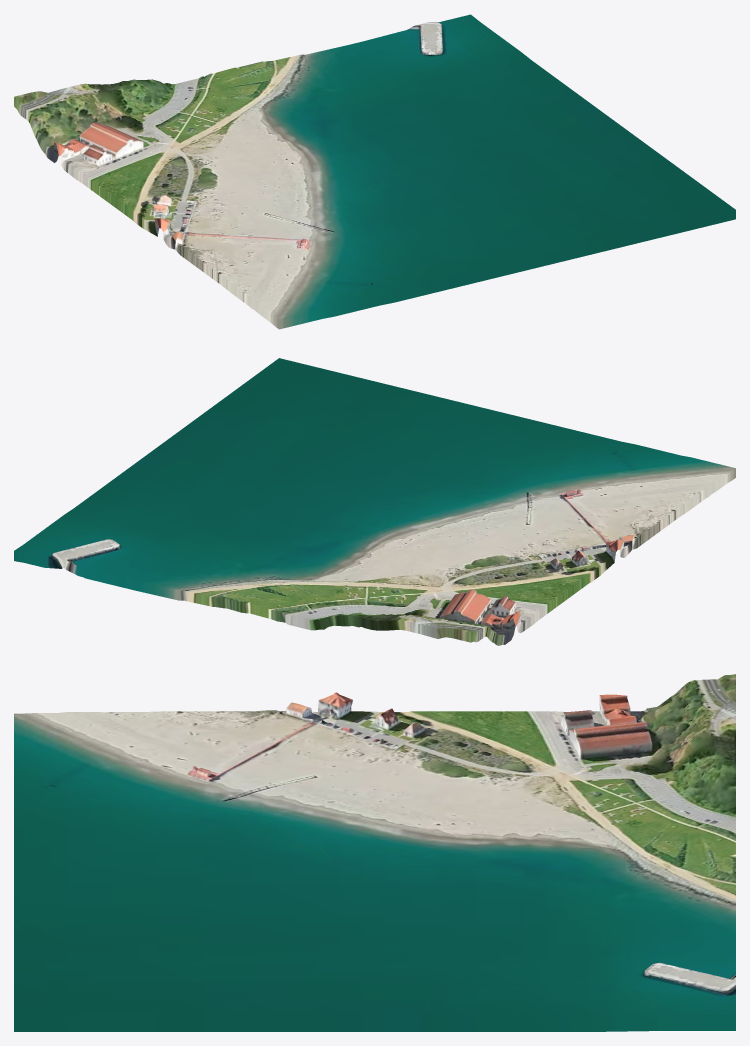
Rendered from z16-10473-25323-h0-yup-uvflip-v3-world.glb.
3 views of the same model, one above another, from view 1: azimuth 30°, elevation 25°; view 2: azimuth 150°, elevation 25°; view 3: azimuth 270°, elevation 25° (orthographic). The views are drawn at different scales.
Size of the model in its own units: 483 by 40.32 by 485.
1 material, 1 textured.
